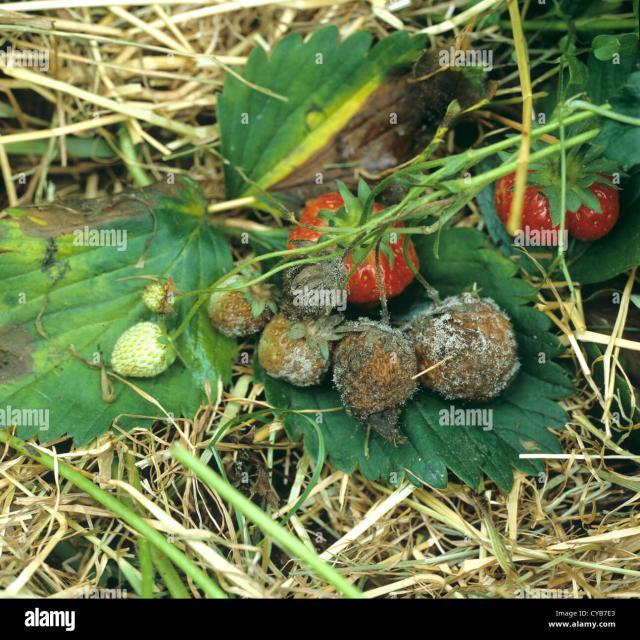Fruta sana: (486, 152, 624, 252)
Moho gris: (414, 293, 518, 405), (330, 316, 409, 427), (264, 302, 338, 388), (204, 250, 266, 333), (287, 244, 352, 315)
